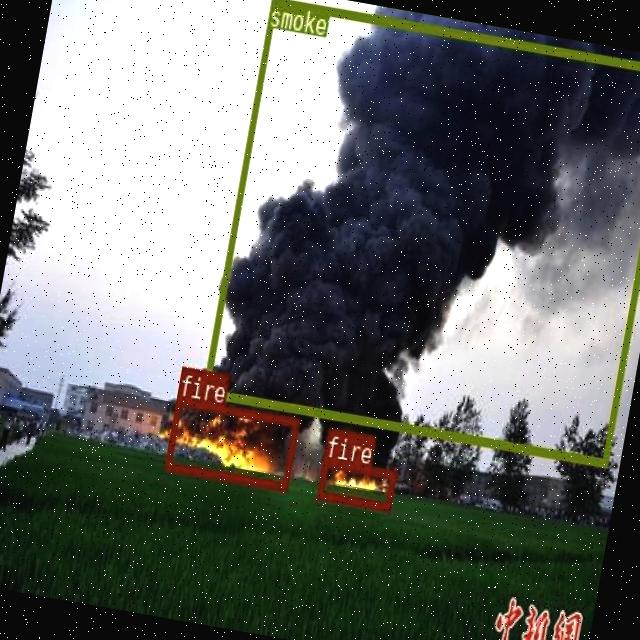fire: (164, 396, 298, 489), (316, 456, 396, 508)
smoke: (201, 0, 640, 465)
